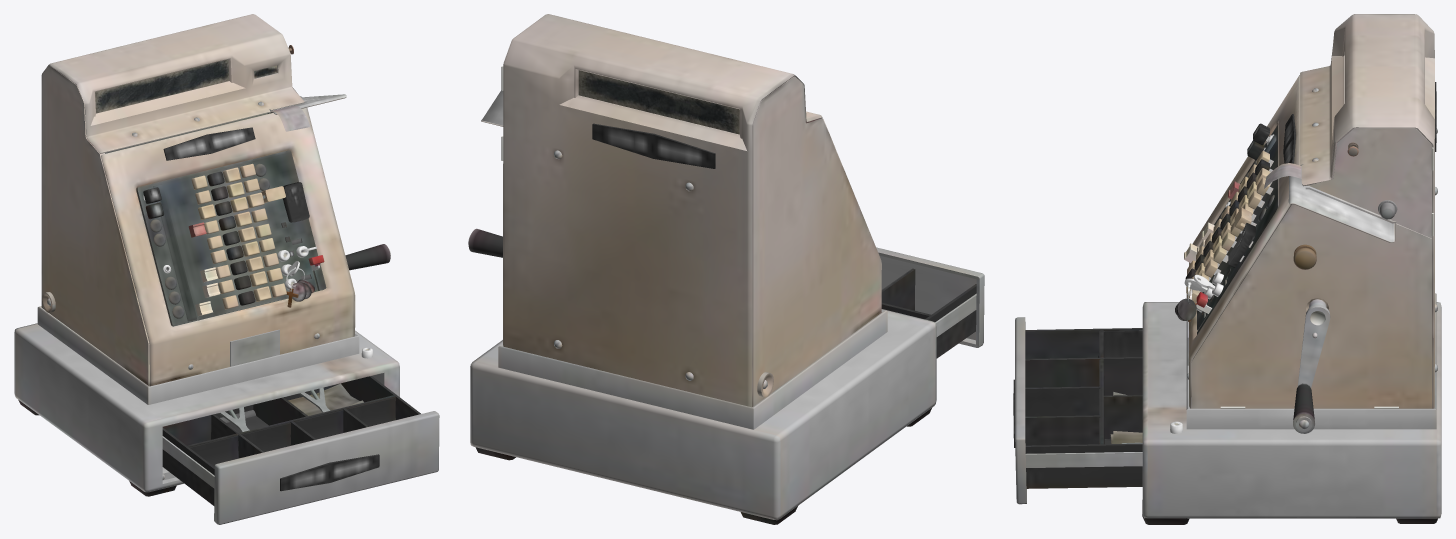
File: CashRegister_01_1k.gltf
3 views of the same model, side by side, from view 1: azimuth 30°, elevation 25°; view 2: azimuth 150°, elevation 25°; view 3: azimuth 270°, elevation 25° (orthographic). The views are drawn at different scales.
Visible parts, largest first — view 1: CashRegister_01_body, CashRegister_011_drawer; view 2: CashRegister_01_body, CashRegister_011_drawer; view 3: CashRegister_01_body, CashRegister_011_drawer.
Part boxes in pixels (box(x1,y1,x2,y2)): CashRegister_01_body: box(14, 14, 399, 496); CashRegister_011_drawer: box(162, 376, 439, 524); CashRegister_01_body: box(468, 14, 936, 524); CashRegister_011_drawer: box(876, 247, 984, 358); CashRegister_01_body: box(1142, 14, 1441, 524); CashRegister_011_drawer: box(1013, 317, 1142, 504).
Size of the model in its own units: 0.6005 by 0.6214 by 0.6242.
2 materials, 2 textured.
